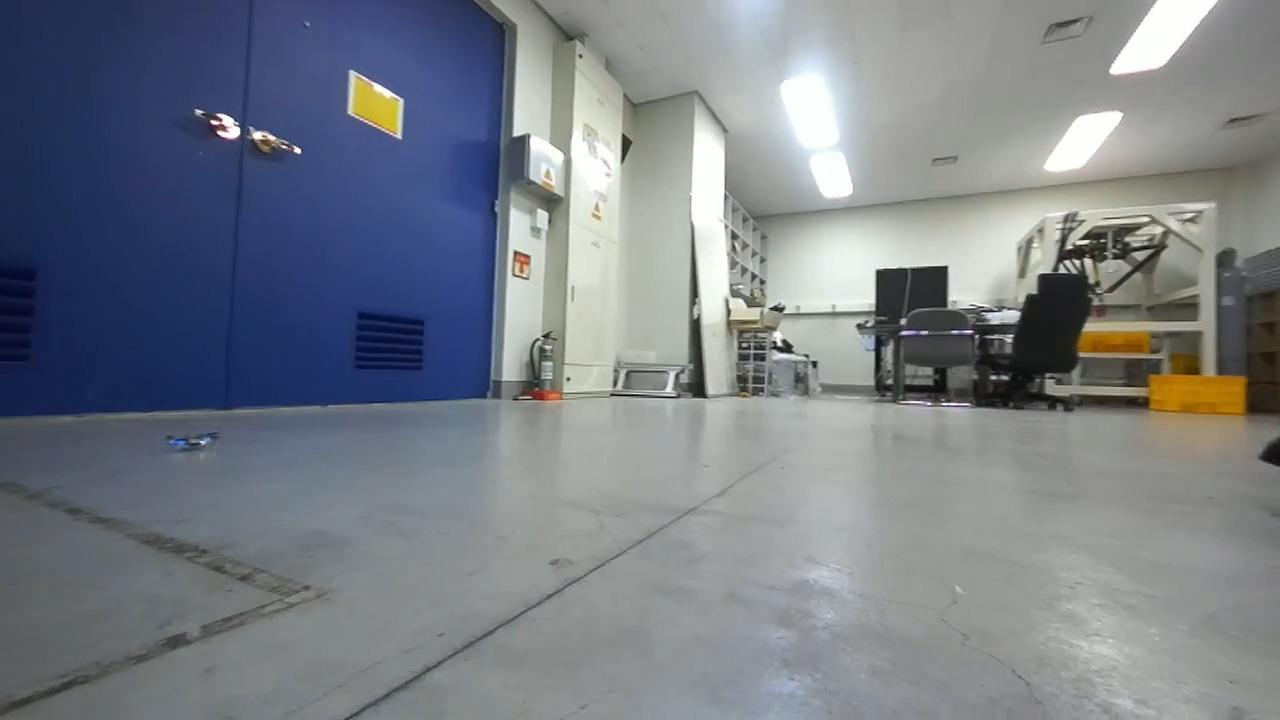crazyflie: (164, 428, 221, 456)
